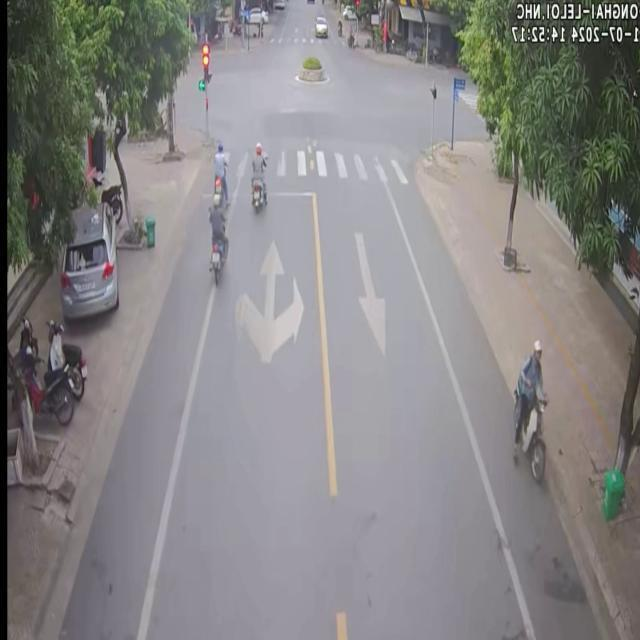car: (58, 194, 117, 318)
motobike: (515, 342, 548, 479), (208, 191, 230, 287), (249, 140, 266, 211), (212, 142, 223, 202)
red_light: (199, 40, 209, 85)
stop_line: (266, 189, 313, 196), (200, 190, 247, 195)
